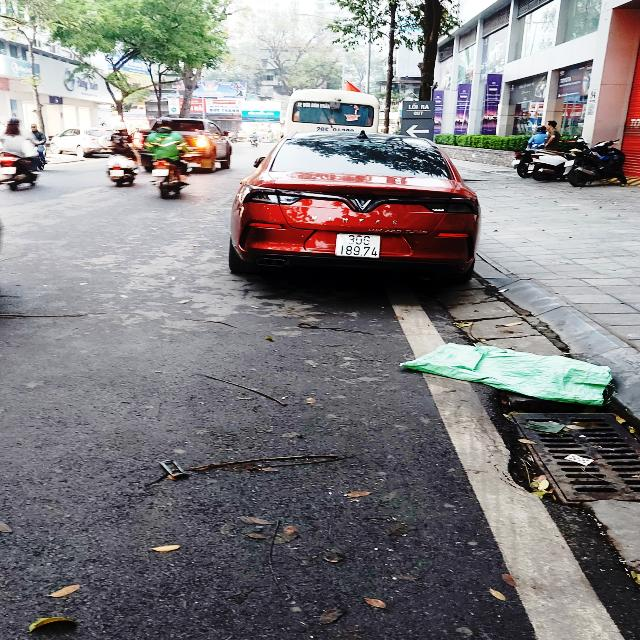license_plate: (333, 233, 386, 261)
